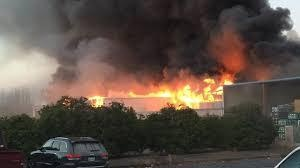fire: (126, 66, 234, 107), (87, 92, 106, 107)
